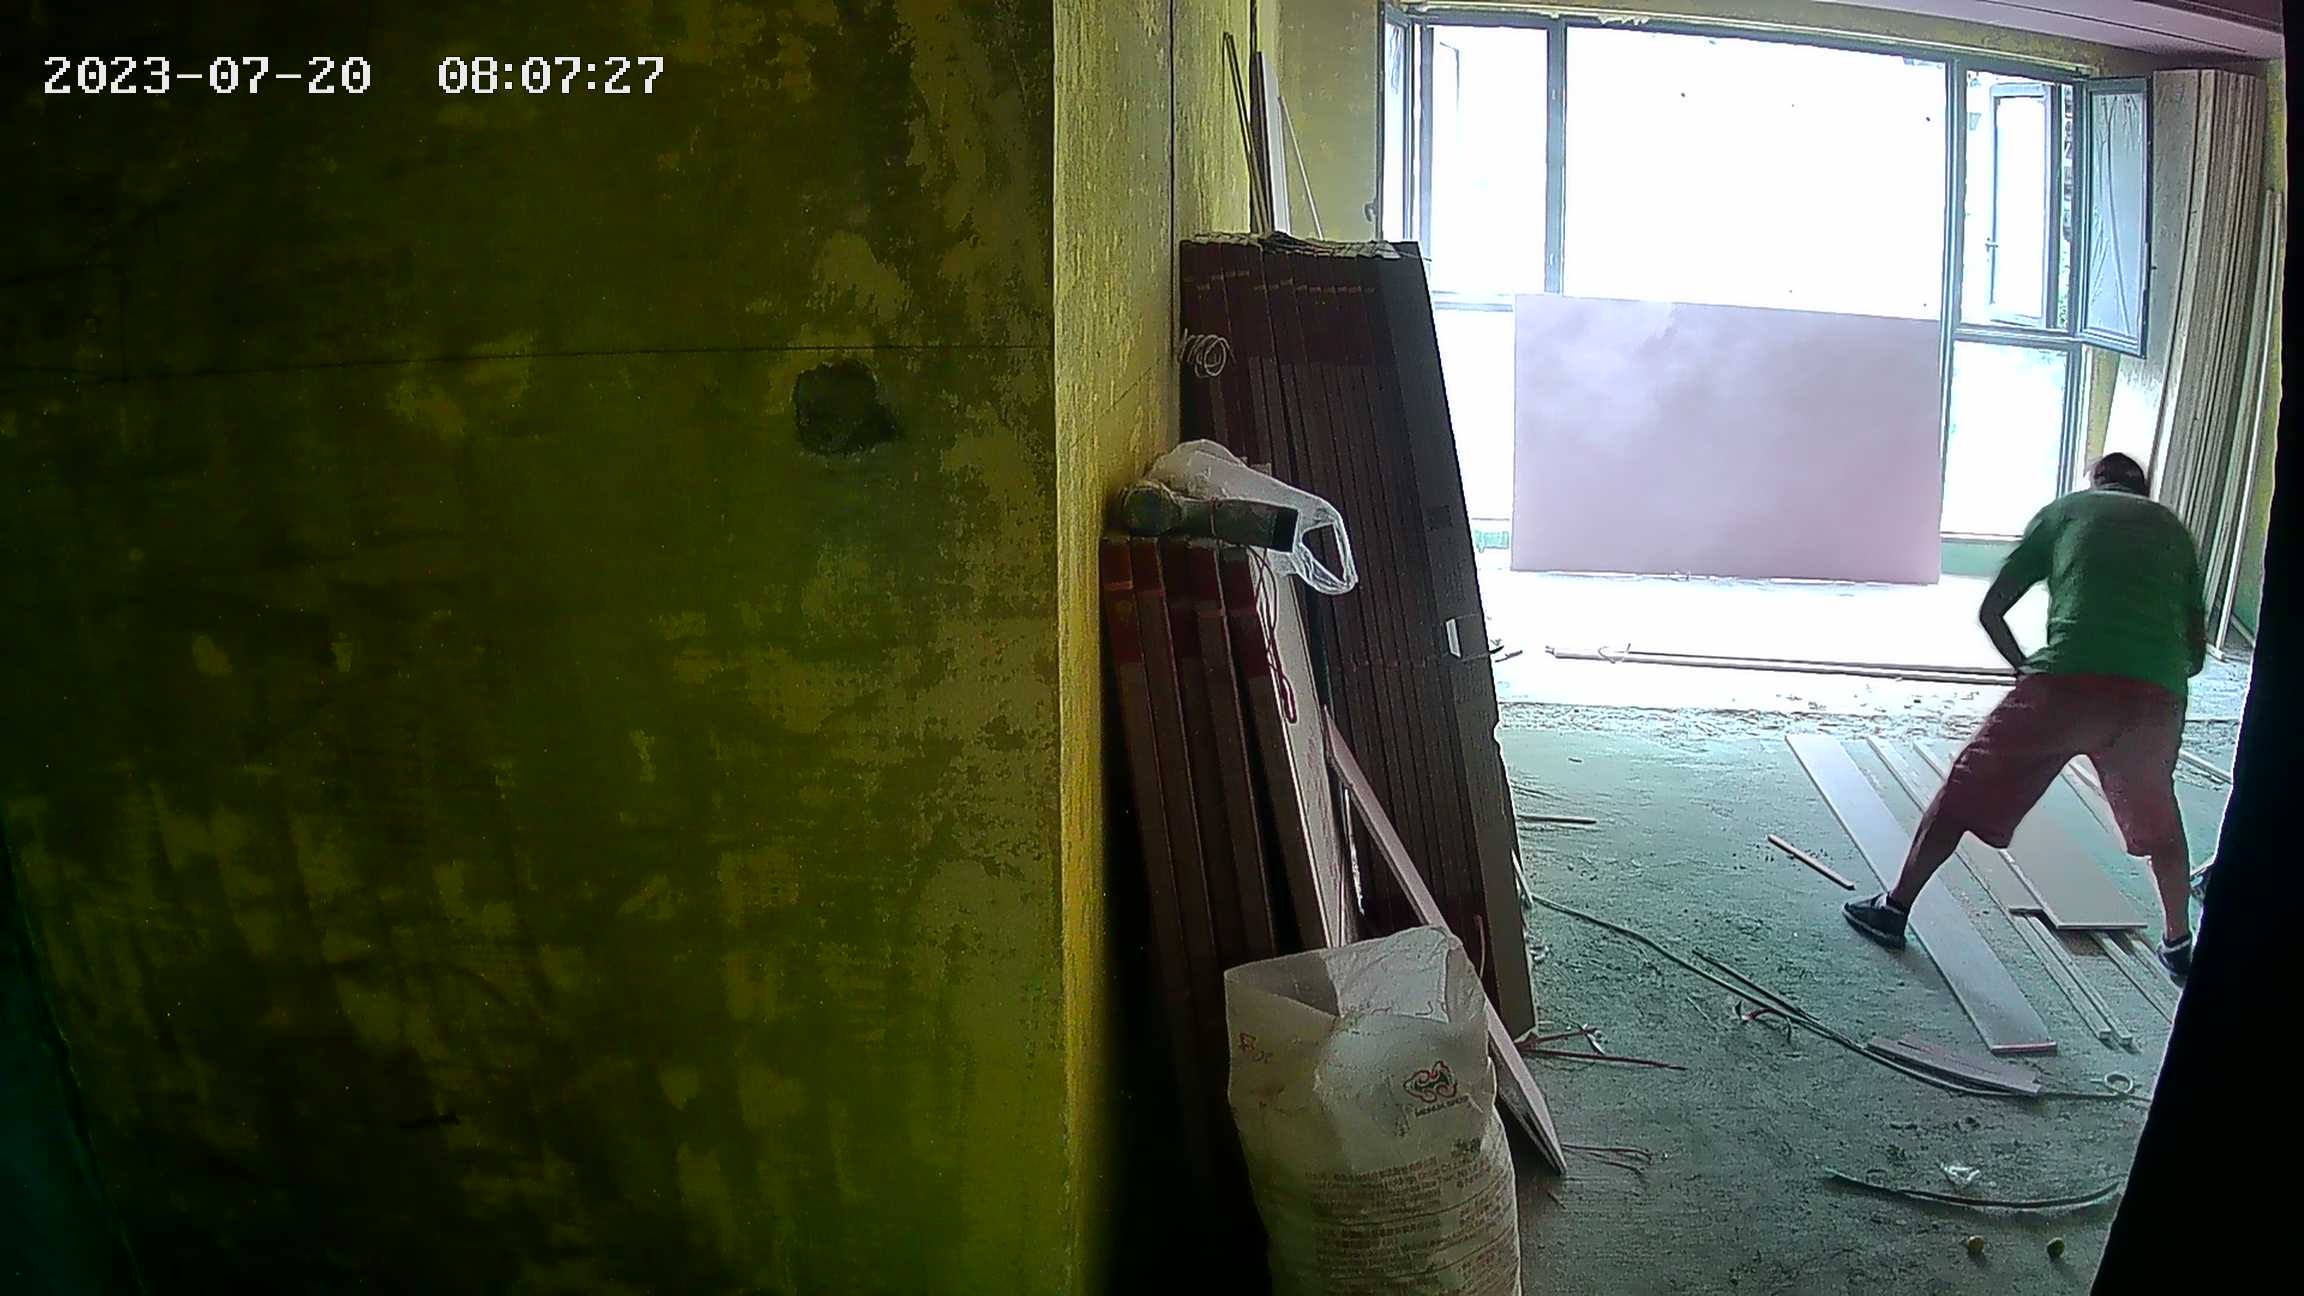people: (1860, 450, 2216, 982)
window: (1407, 21, 2131, 559)
